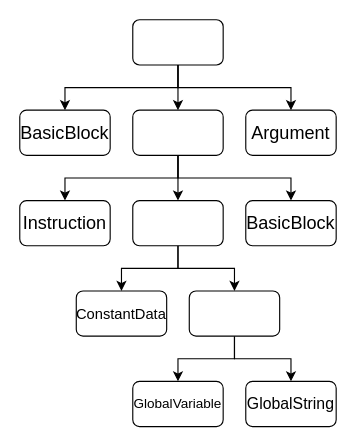
Some shapes in this 356 by 446 pixel diagram are drawn without their labels. Each missing label, with the centre of its shape:
"Constant" goes at [177,222].
"GlobalValue" goes at [234,313].
"User" goes at [177,132].
"Value" goes at [177,42].
